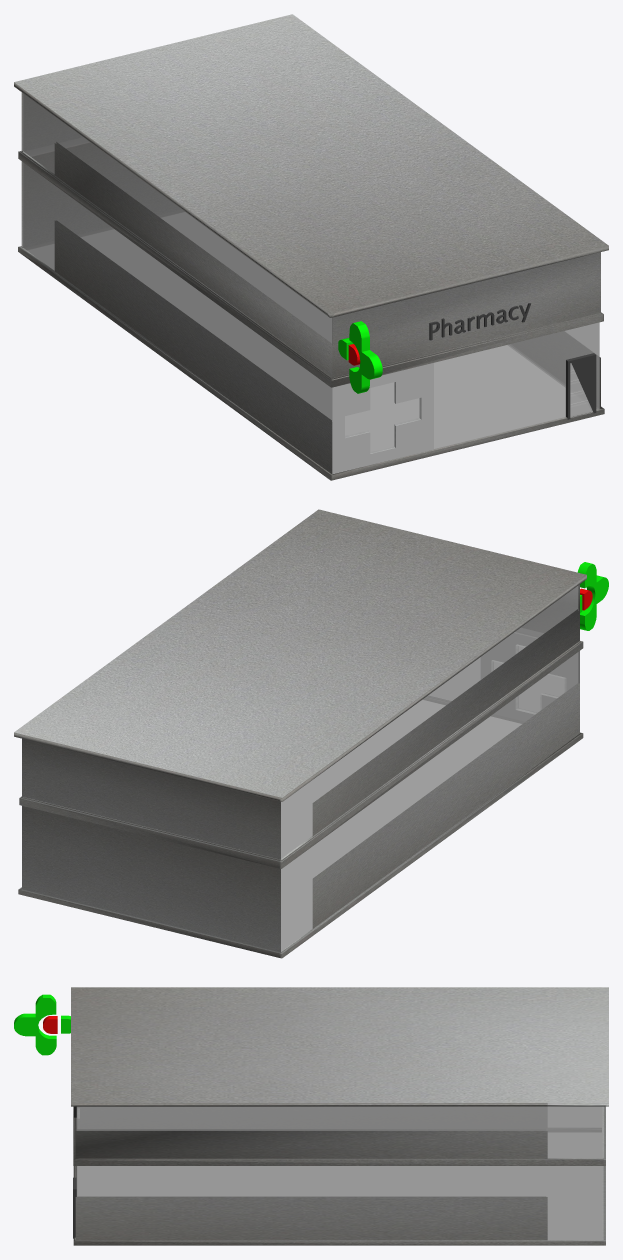
The model's file is FARMACY.fbx.
3 views of the same model, one above another, from view 1: azimuth 30°, elevation 25°; view 2: azimuth 150°, elevation 25°; view 3: azimuth 270°, elevation 25° (orthographic). The views are drawn at different scales.
Parts seen in each view (by area): view 1: FARMACIA, pCube119, FARMACIA1, porta13, pasted__pPlane1, typeMesh6, pCube3; view 2: FARMACIA, pCube119, FARMACIA1, pasted__pPlane1; view 3: FARMACIA, pCube119, FARMACIA1, pasted__pPlane1, pasted__pPlane5.
Part boxes in pixels (x1,y1,x2,y2): FARMACIA: (14, 14, 608, 480); pCube119: (23, 93, 599, 453); FARMACIA1: (20, 94, 601, 452); porta13: (566, 353, 596, 419); pasted__pPlane1: (349, 321, 369, 393); typeMesh6: (429, 303, 530, 340); pCube3: (570, 363, 592, 417); FARMACIA: (14, 509, 586, 958); pCube119: (281, 586, 578, 951); FARMACIA1: (21, 586, 581, 951); pasted__pPlane1: (577, 562, 596, 630); FARMACIA: (71, 987, 608, 1245); pCube119: (76, 1106, 603, 1240); FARMACIA1: (75, 1106, 604, 1240); pasted__pPlane1: (35, 994, 56, 1055); pasted__pPlane5: (14, 1013, 35, 1036).
Size of the model in its own units: 10.36 by 6.02 by 22.54.
